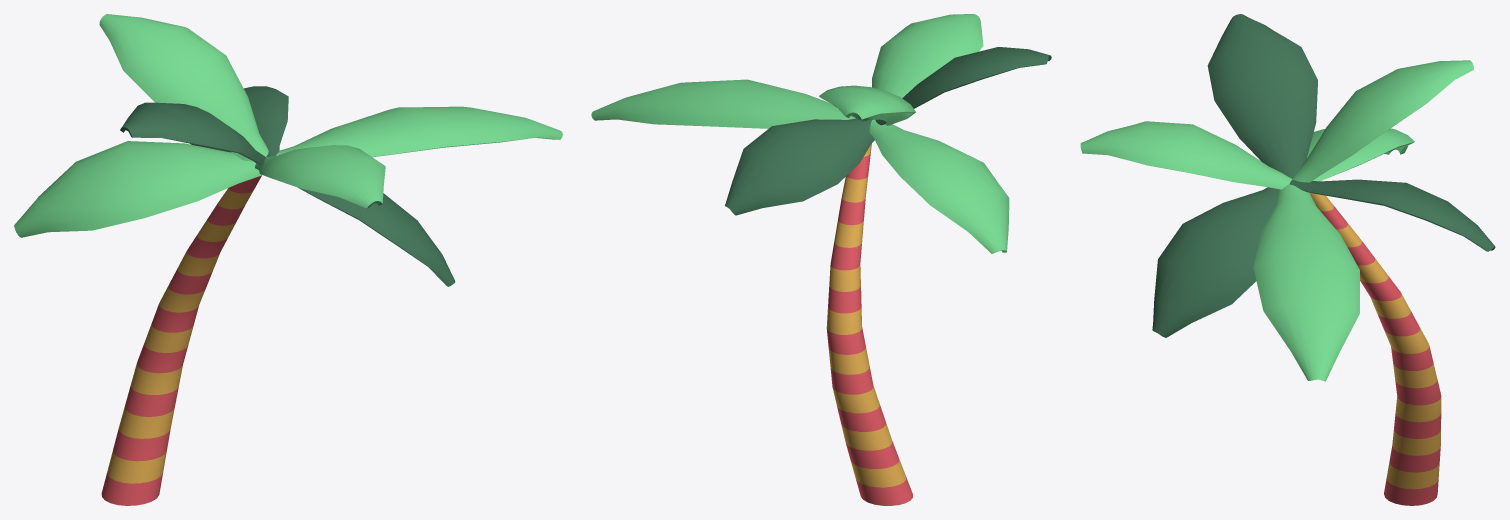
The model's file is palmtree_model.fbx.
3 views of the same model, side by side, from view 1: azimuth 30°, elevation 25°; view 2: azimuth 150°, elevation 25°; view 3: azimuth 270°, elevation 25° (orthographic). The views are drawn at different scales.
Visible parts, largest first — view 1: trunk, pCylinder4, pCylinder6, pCylinder3, pCylinder2, pCylinder5, pCylinder7, pCylinder8; view 2: trunk, pCylinder8, pCylinder4, pCylinder3, pCylinder2, pCylinder5, pCylinder6; view 3: pCylinder3, pCylinder5, trunk, pCylinder7, pCylinder6, pCylinder2, pCylinder8, pCylinder4.
Boxes of the visible parts, left/top/right/bottom form: trunk: left=101, top=175, right=261, bottom=505; pCylinder4: left=14, top=141, right=262, bottom=237; pCylinder6: left=99, top=14, right=268, bottom=161; pCylinder3: left=276, top=106, right=562, bottom=157; pCylinder2: left=255, top=145, right=385, bottom=208; pCylinder5: left=120, top=102, right=265, bottom=165; pCylinder7: left=298, top=187, right=455, bottom=286; pCylinder8: left=190, top=86, right=288, bottom=156; trunk: left=826, top=143, right=912, bottom=505; pCylinder8: left=725, top=118, right=874, bottom=215; pCylinder4: left=869, top=119, right=1009, bottom=253; pCylinder3: left=591, top=79, right=855, bottom=128; pCylinder2: left=872, top=14, right=983, bottom=97; pCylinder5: left=875, top=47, right=1051, bottom=125; pCylinder6: left=819, top=85, right=915, bottom=125; pCylinder3: left=1253, top=184, right=1359, bottom=381; pCylinder5: left=1207, top=14, right=1317, bottom=179; trunk: left=1309, top=192, right=1441, bottom=505; pCylinder7: left=1152, top=187, right=1279, bottom=337; pCylinder6: left=1293, top=60, right=1473, bottom=182; pCylinder2: left=1080, top=121, right=1292, bottom=189; pCylinder8: left=1289, top=179, right=1495, bottom=251; pCylinder4: left=1307, top=128, right=1414, bottom=181.
Bounding box in the file's own units: 10.52 × 9.05 × 7.79.
